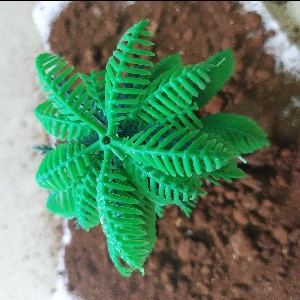plant: (35, 24, 269, 279)
